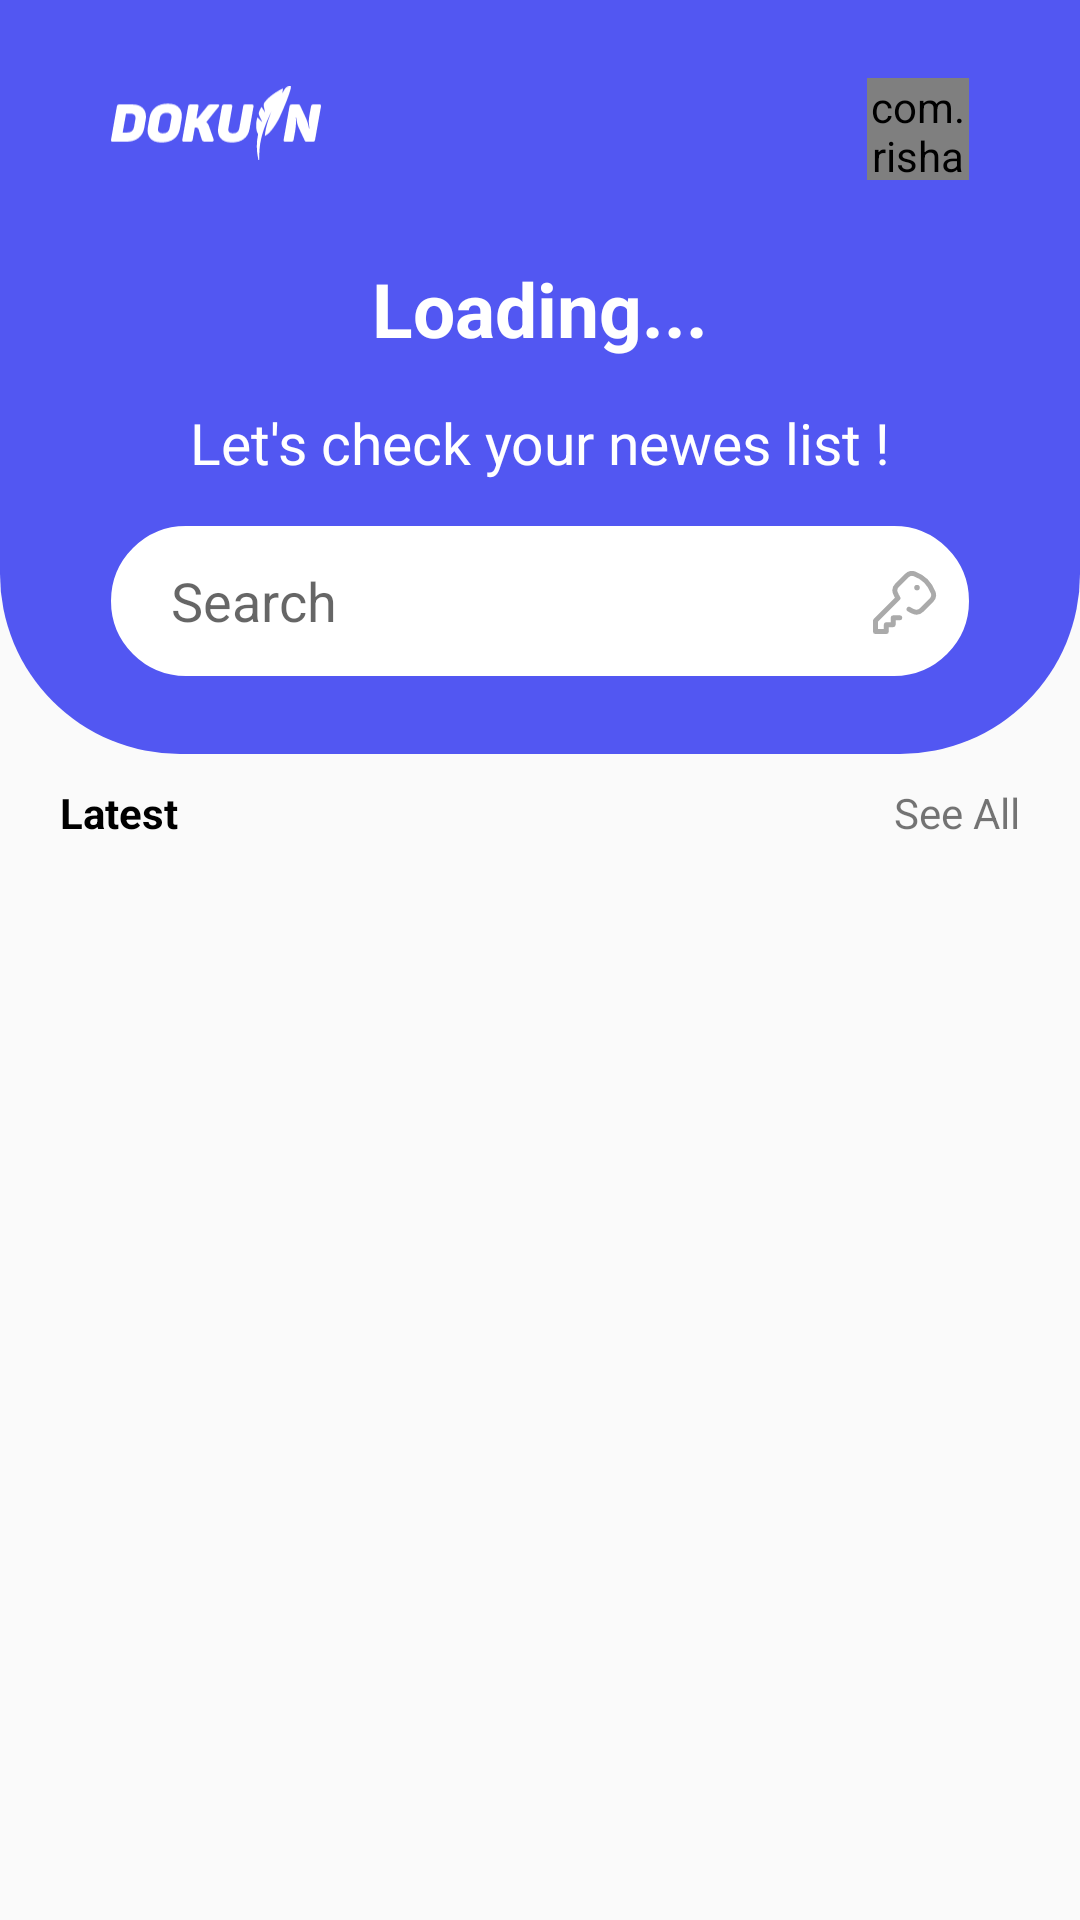

Icons on this 1080x1920 Android screen, each with the point to tap as (x=x, y=y):
key: (x=904, y=602)
